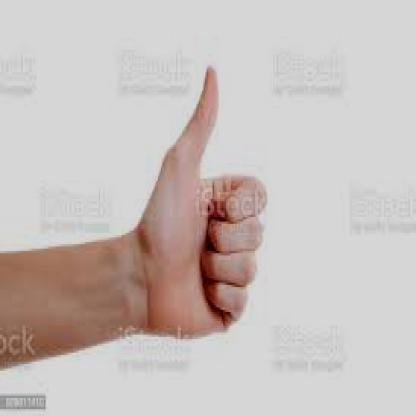Thumbs up: (125, 56, 282, 369)
